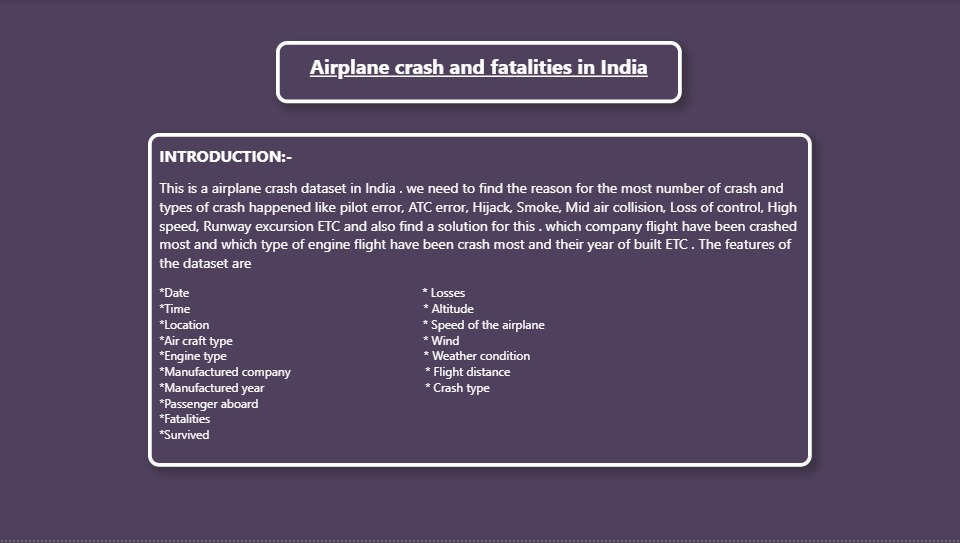

The page's visual inventory and layout, read from the dashboard file:
{"tool":"powerbi","page":{"name":"Introduction","canvas":[1280,720],"ordinal":0},"visuals":[{"type":"textbox","box":[196.8,177.5,885,444.6],"z":0},{"type":"textbox","box":[367.5,55.1,540.9,82.6],"z":1000}]}

Visuals, with their boxes in screenshot pixels (x1, y1, x2, y2), scaled from the page's 1280x720 canvas onto the 960x543 screenshot:
textbox: 148,134,811,469
textbox: 276,42,681,104
